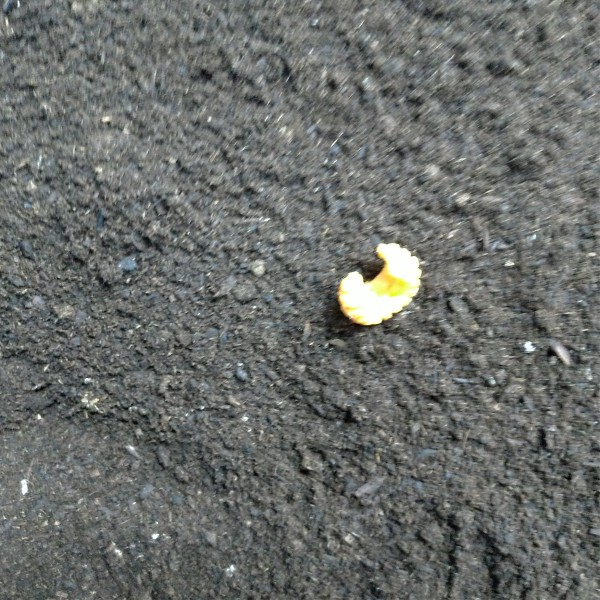eggs: (338, 241, 424, 331)
